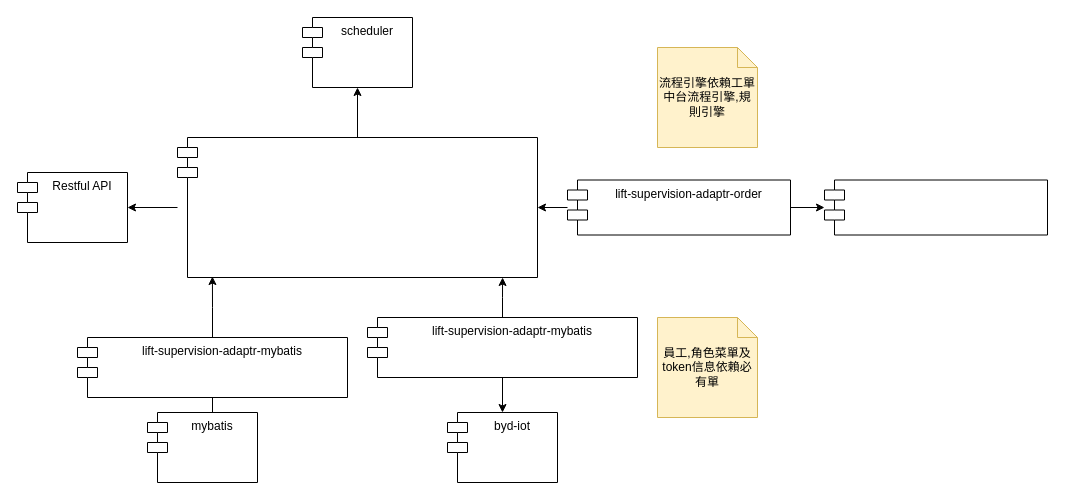
Image size: 1065x500. Some labels were removed from this diagram. The centre of each missing label's shape, as x and y in pixels:
"Module" goes at (357,207).
"smart-order-activiti" goes at (936,207).
